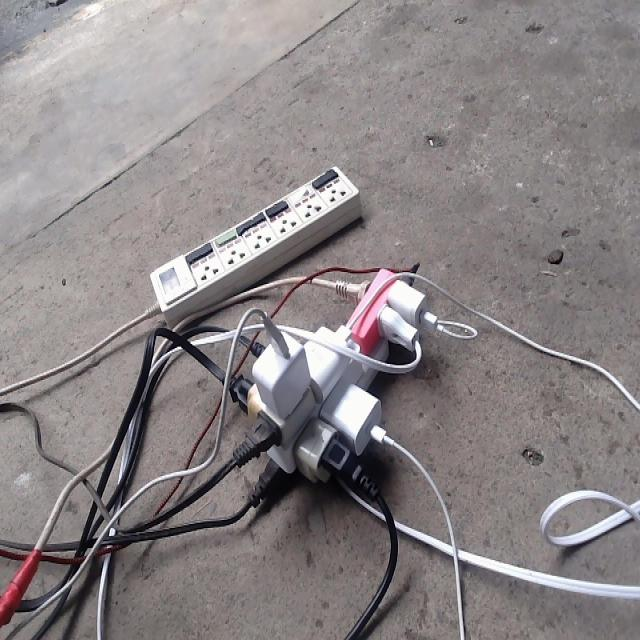-: (225, 259, 432, 484)
